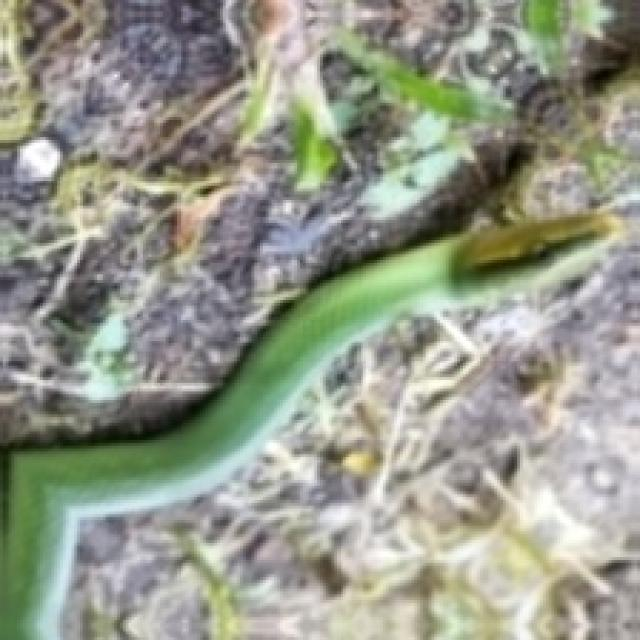red-tailed green ratsnake: (0, 212, 616, 639)
